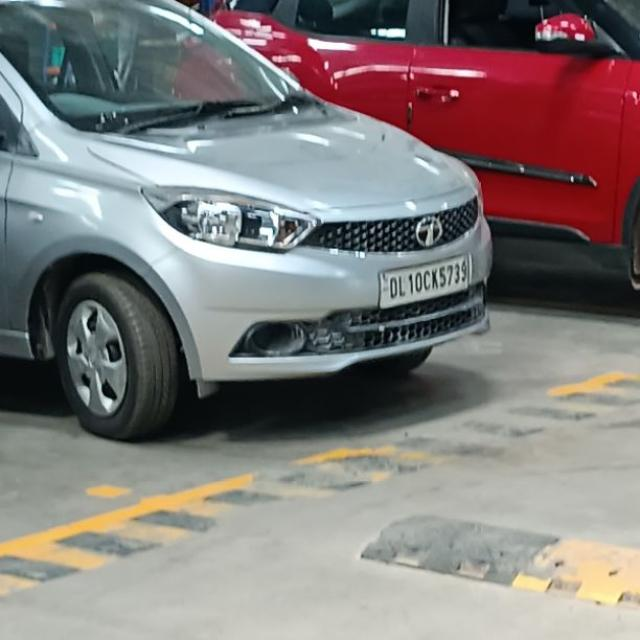license_plate: (377, 252, 472, 310)
